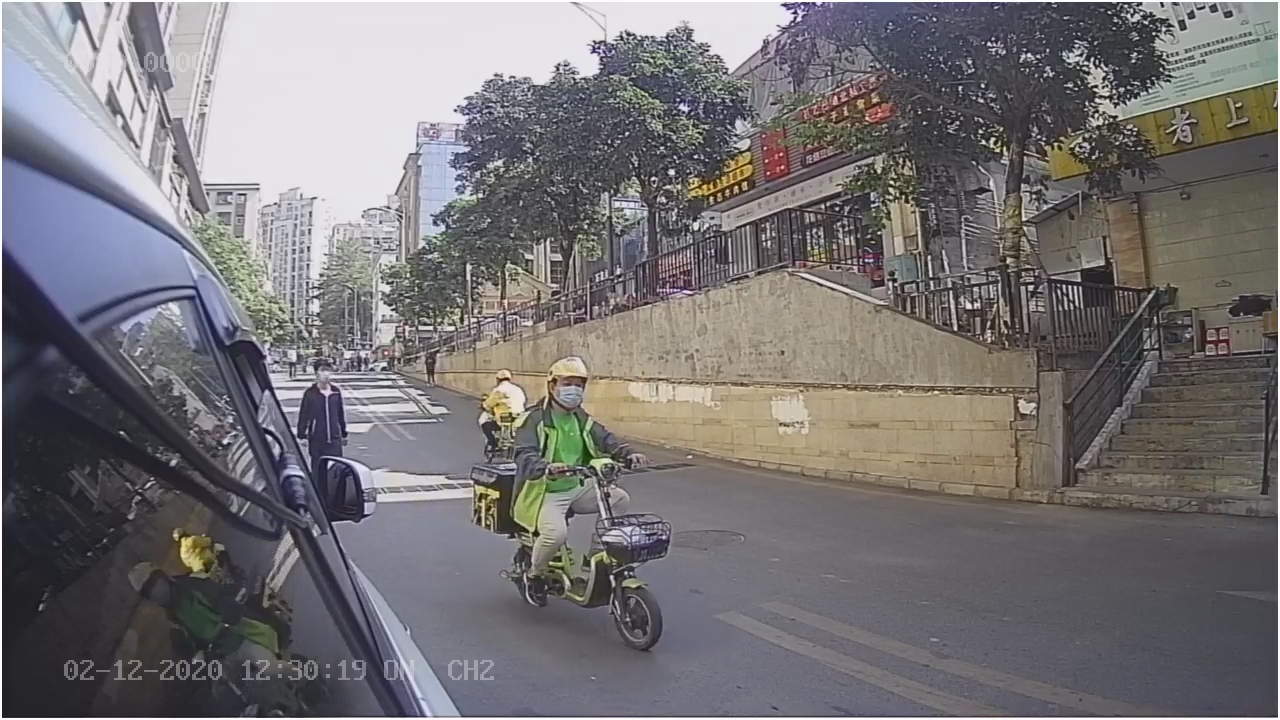person: (511, 351, 623, 478)
